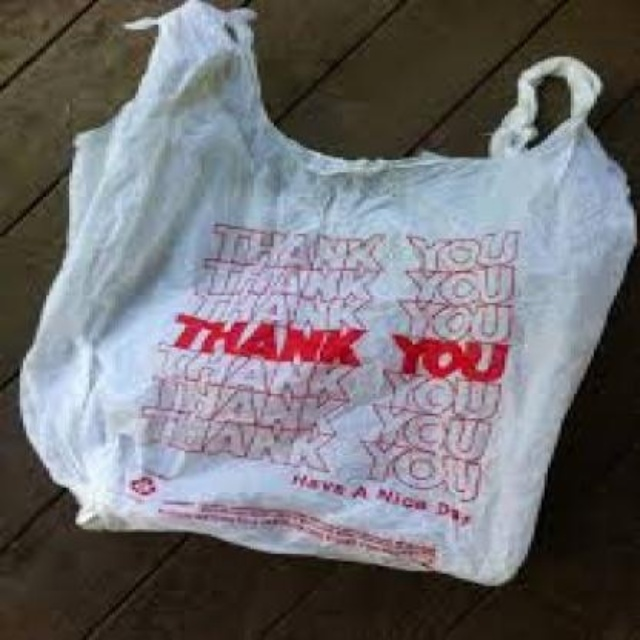trash: (20, 0, 634, 583)
